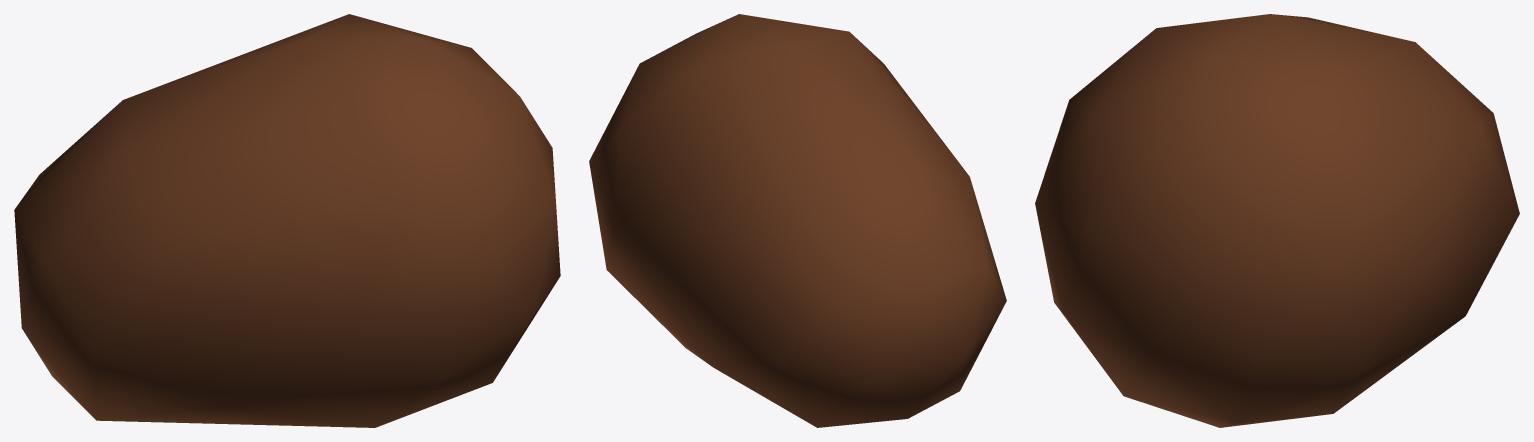
The model's file is potato.fbx.
The picture shows the model from 3 angles, left to right: view 1: azimuth 30°, elevation 25°; view 2: azimuth 150°, elevation 25°; view 3: azimuth 270°, elevation 25°; orthographic projection. The views are drawn at different scales.
Parts seen in each view (by area): view 1: Potato; view 2: Potato; view 3: Potato.
Part boxes in pixels (x1,y1,x2,y2): Potato: (14, 14, 560, 427); Potato: (589, 14, 1006, 427); Potato: (1035, 14, 1519, 427).
Size of the model in its own units: 11.72 by 10.44 by 9.19.
